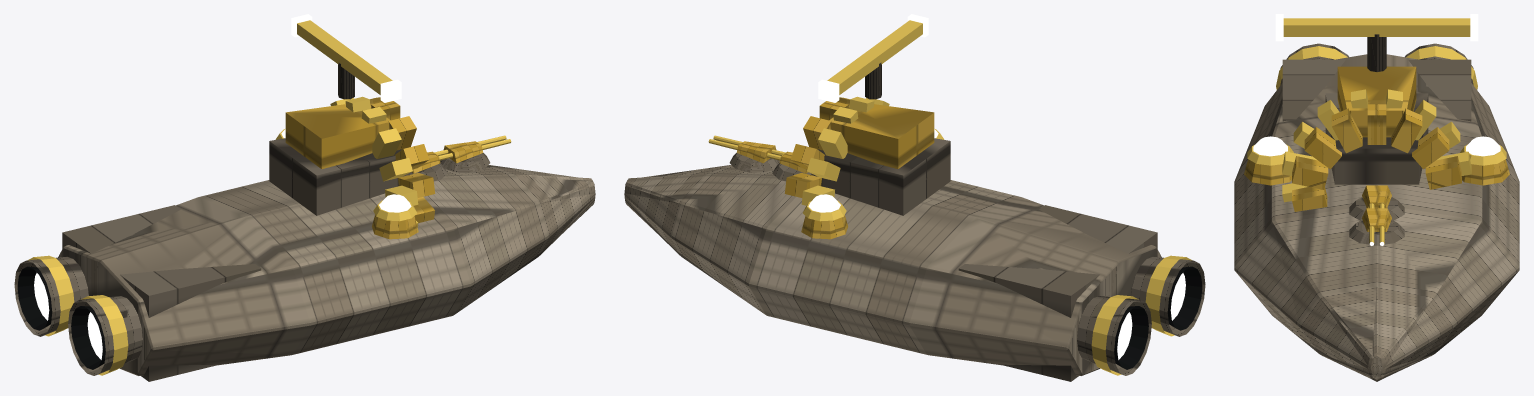
The model's file is command_ship.glb.
3 views of the same model, side by side, from view 1: azimuth 30°, elevation 25°; view 2: azimuth 150°, elevation 25°; view 3: azimuth 270°, elevation 25° (orthographic). The views are drawn at different scales.
Parts seen in each view (by area): view 1: hull_body, engine_block, sensor_tower, weapon_turrets, shield_domes; view 2: hull_body, engine_block, sensor_tower, weapon_turrets, shield_domes; view 3: hull_body, sensor_tower, engine_block, shield_domes, weapon_turrets.
Part boxes in pixels (x1=…): hull_body: x1=58, y1=97, x2=595, y2=375; engine_block: x1=14, y1=205, x2=261, y2=381; sensor_tower: x1=269, y1=14, x2=418, y2=226; weapon_turrets: x1=408, y1=135, x2=511, y2=181; shield_domes: x1=275, y1=129, x2=418, y2=239; hull_body: x1=624, y1=97, x2=1161, y2=375; engine_block: x1=958, y1=205, x2=1205, y2=381; sensor_tower: x1=801, y1=14, x2=950, y2=215; weapon_turrets: x1=708, y1=135, x2=811, y2=181; shield_domes: x1=801, y1=129, x2=944, y2=239; hull_body: x1=1234, y1=54, x2=1519, y2=381; sensor_tower: x1=1275, y1=14, x2=1478, y2=202; engine_block: x1=1276, y1=43, x2=1477, y2=121; shield_domes: x1=1244, y1=136, x2=1509, y2=185; weapon_turrets: x1=1349, y1=185, x2=1404, y2=245.
Bounding box in the file's own units: 56 × 26.19 × 23.91.
Materials: 1 (1 with a texture image).
